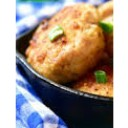cutlet: (35, 7, 102, 78)
